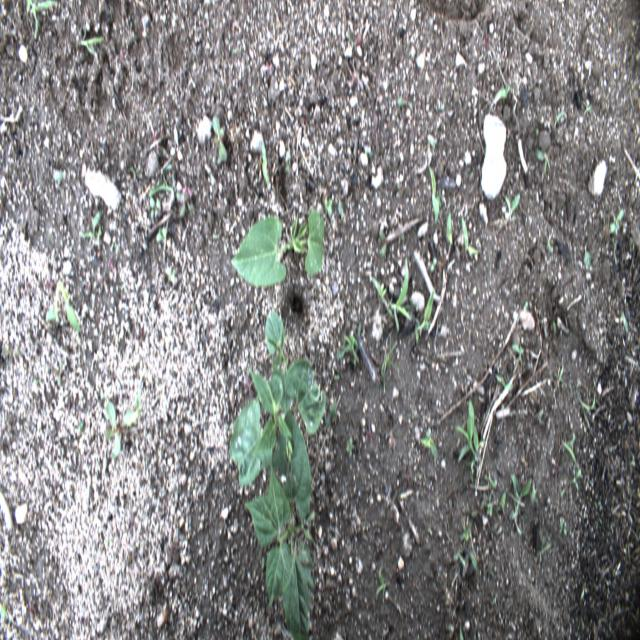crop: (244, 408, 314, 637), (229, 357, 327, 489), (230, 205, 326, 288), (265, 306, 295, 418)
weed: (369, 259, 416, 335), (453, 398, 485, 473), (104, 400, 142, 460), (44, 277, 81, 333), (26, 0, 58, 43), (510, 473, 532, 535), (416, 286, 435, 344), (339, 325, 362, 368), (379, 337, 398, 382), (211, 116, 228, 164), (80, 29, 105, 58), (580, 388, 596, 432), (428, 166, 440, 223), (464, 524, 477, 572), (82, 208, 101, 240), (462, 218, 478, 255), (533, 147, 553, 174), (561, 432, 577, 465), (259, 140, 270, 186), (2, 340, 23, 362), (504, 194, 520, 221), (177, 188, 192, 216), (609, 207, 623, 235), (375, 567, 387, 599), (420, 436, 439, 456), (278, 145, 291, 174), (170, 174, 182, 204), (52, 358, 64, 386), (170, 128, 182, 156), (149, 182, 177, 194), (379, 228, 389, 261), (327, 398, 337, 428), (452, 545, 466, 566), (469, 497, 484, 515), (74, 415, 86, 437), (494, 86, 511, 101), (149, 198, 161, 218), (128, 163, 142, 180), (323, 196, 332, 222), (445, 210, 452, 243), (513, 343, 523, 366), (156, 225, 167, 244), (572, 467, 580, 493), (344, 439, 354, 459), (497, 373, 508, 389), (0, 600, 8, 620), (558, 518, 566, 537), (580, 580, 587, 600), (458, 621, 465, 639), (594, 496, 602, 511), (430, 257, 438, 272), (168, 267, 175, 284), (613, 238, 617, 266), (546, 237, 552, 254), (34, 378, 44, 388), (399, 98, 407, 109), (486, 501, 492, 515), (584, 104, 592, 114), (334, 372, 341, 382), (561, 202, 567, 211), (560, 486, 565, 496)
